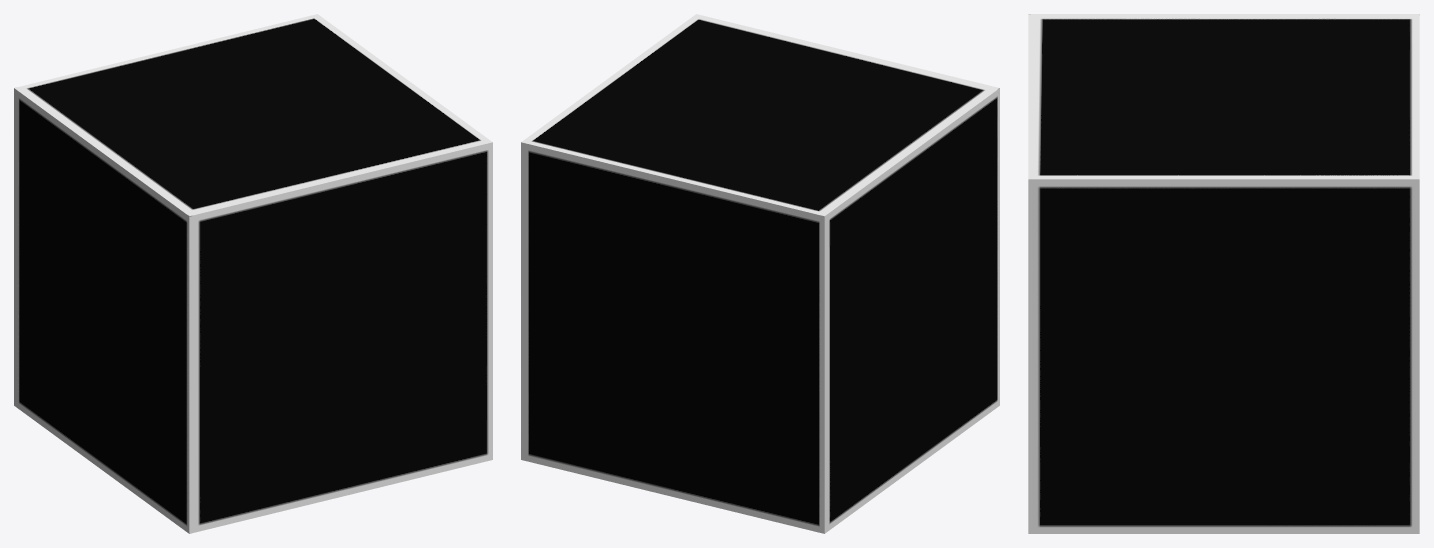
3 views of the same model, side by side, from view 1: azimuth 30°, elevation 25°; view 2: azimuth 150°, elevation 25°; view 3: azimuth 270°, elevation 25° (orthographic). The views are drawn at different scales.
Parts seen in each view (by area): view 1: 立方体, 立方体.001; view 2: 立方体, 立方体.001; view 3: 立方体, 立方体.001.
Part boxes in pixels (<box>): 立方体: <box>14,14,492,533</box>; 立方体.001: <box>14,21,492,533</box>; 立方体: <box>521,14,999,533</box>; 立方体.001: <box>521,14,999,529</box>; 立方体: <box>1028,14,1419,533</box>; 立方体.001: <box>1028,14,1419,533</box>.
Bounding box in the file's own units: 2 × 2 × 2.
1 material, 1 textured.
